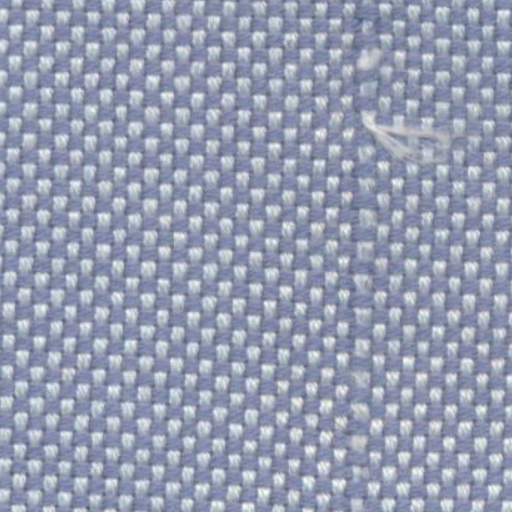DuanSha: (352, 96, 472, 182)
